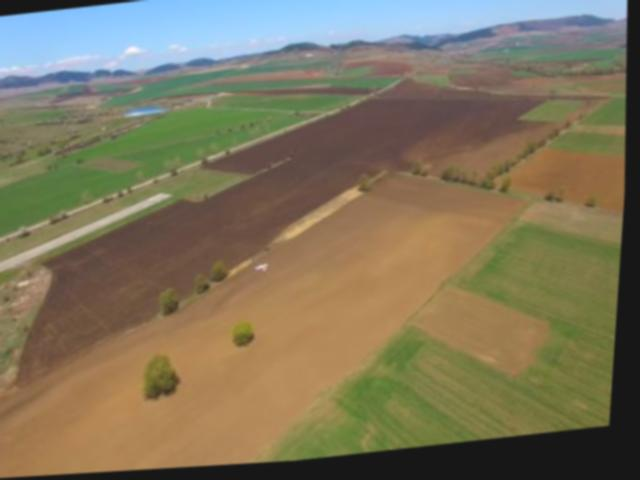uav: (255, 258, 276, 279)
